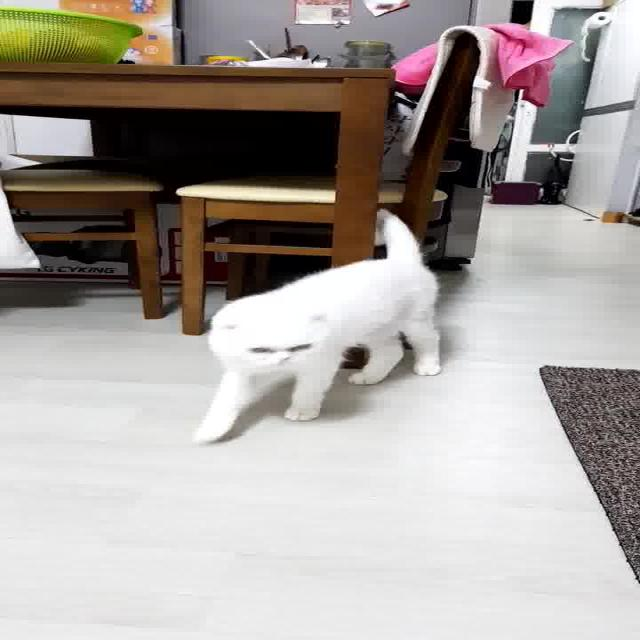cat: (175, 209, 456, 449)
